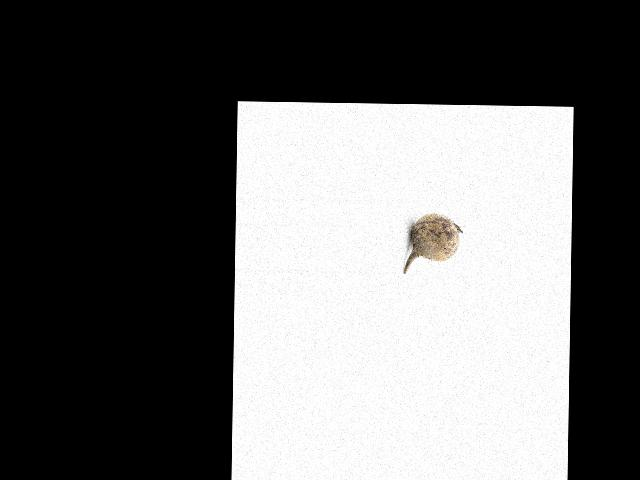beet: (403, 212, 463, 274)
